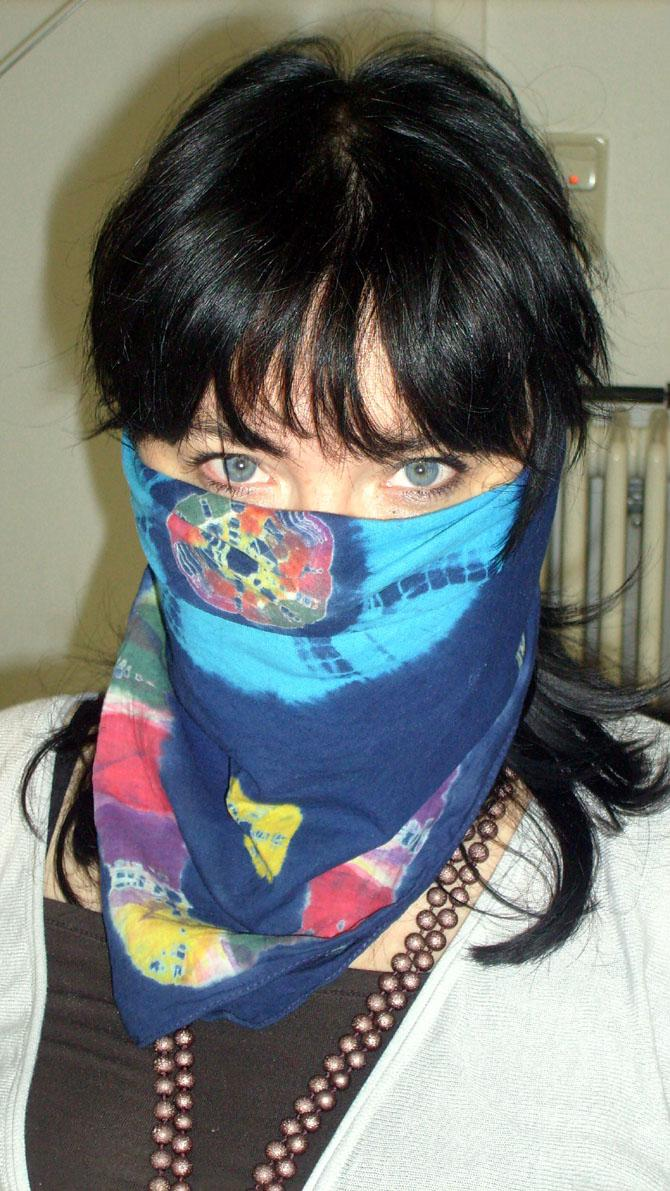OK: (101, 325, 560, 784)
